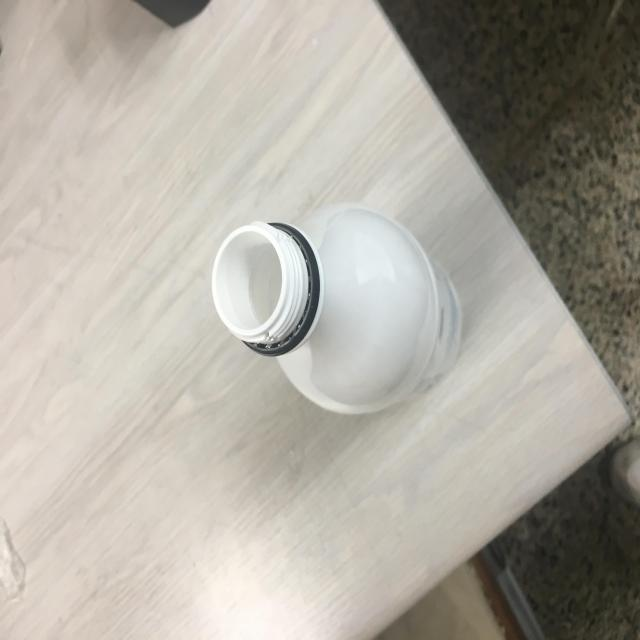bottle: (182, 207, 471, 466)
